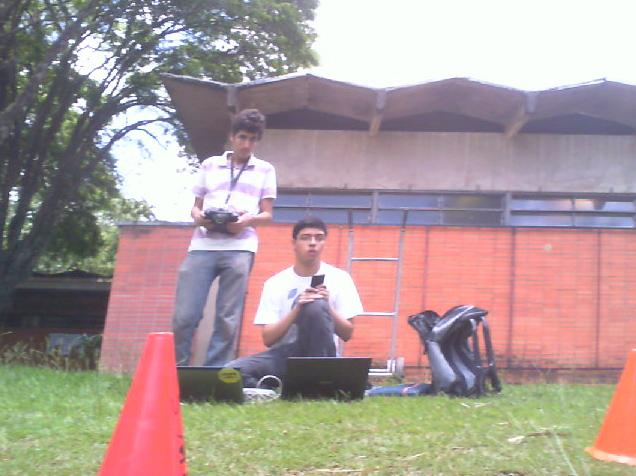0 cone: (96, 332, 187, 476), (583, 349, 636, 466)
